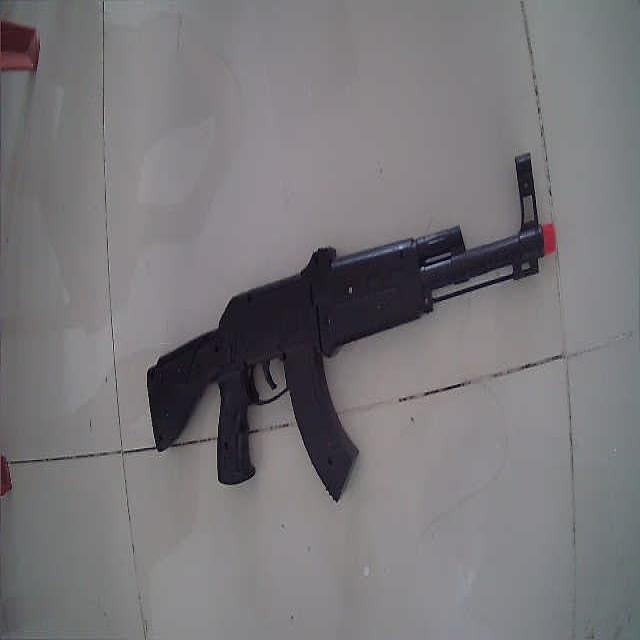rifle: (146, 151, 558, 501)
